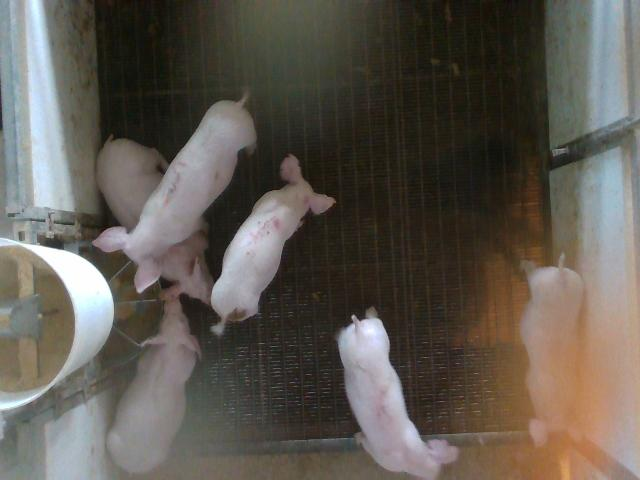pig-3: (94, 98, 256, 291)
pig-4: (521, 255, 584, 446)
pig-5: (211, 154, 335, 335)
